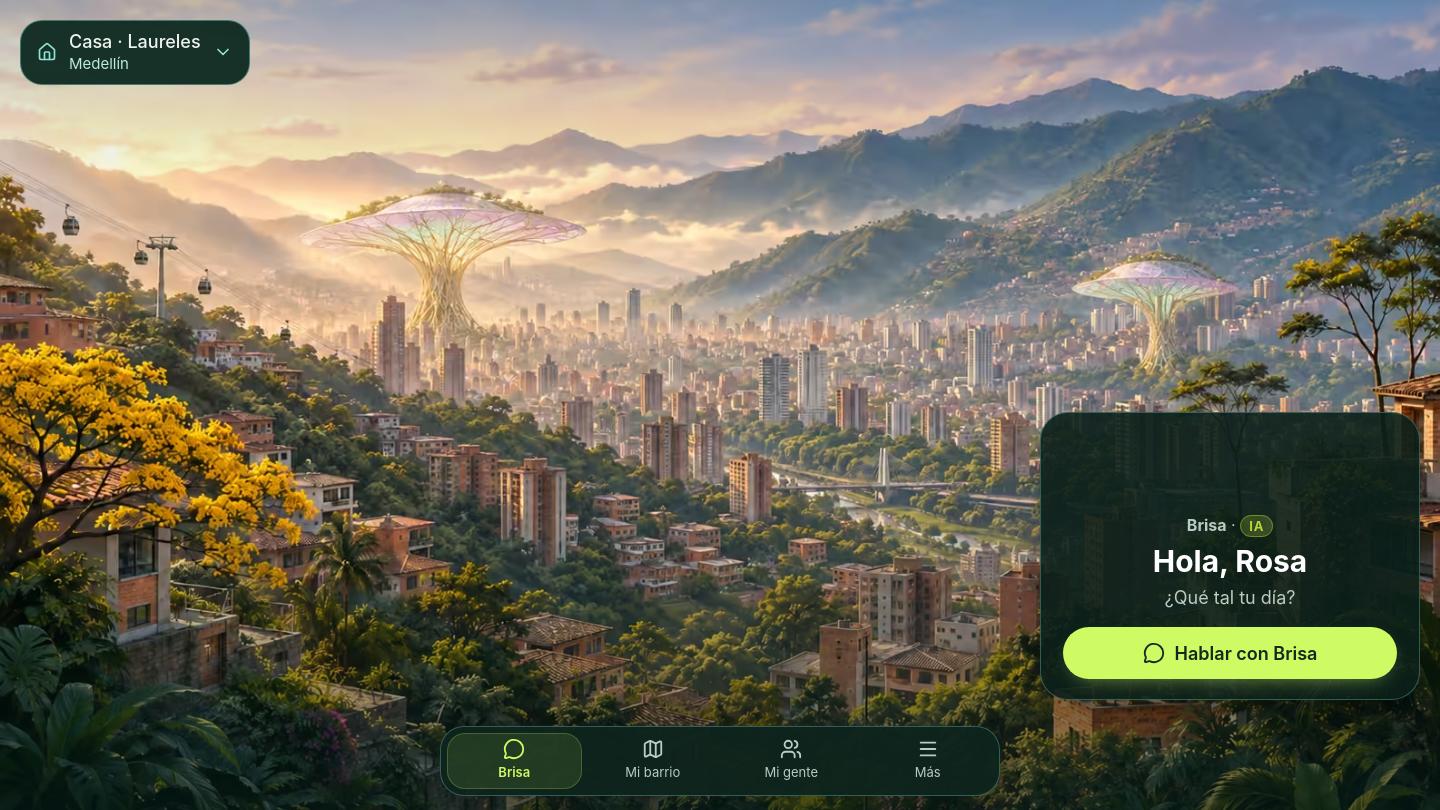
Scenario: Inicio con Brisa › arma un plan conversando y lo publica
The image size is (1440, 810).
Click the button "Hablar con Brisa" at (1230, 653), box top-left (1063, 627), bottom-right (1397, 679)
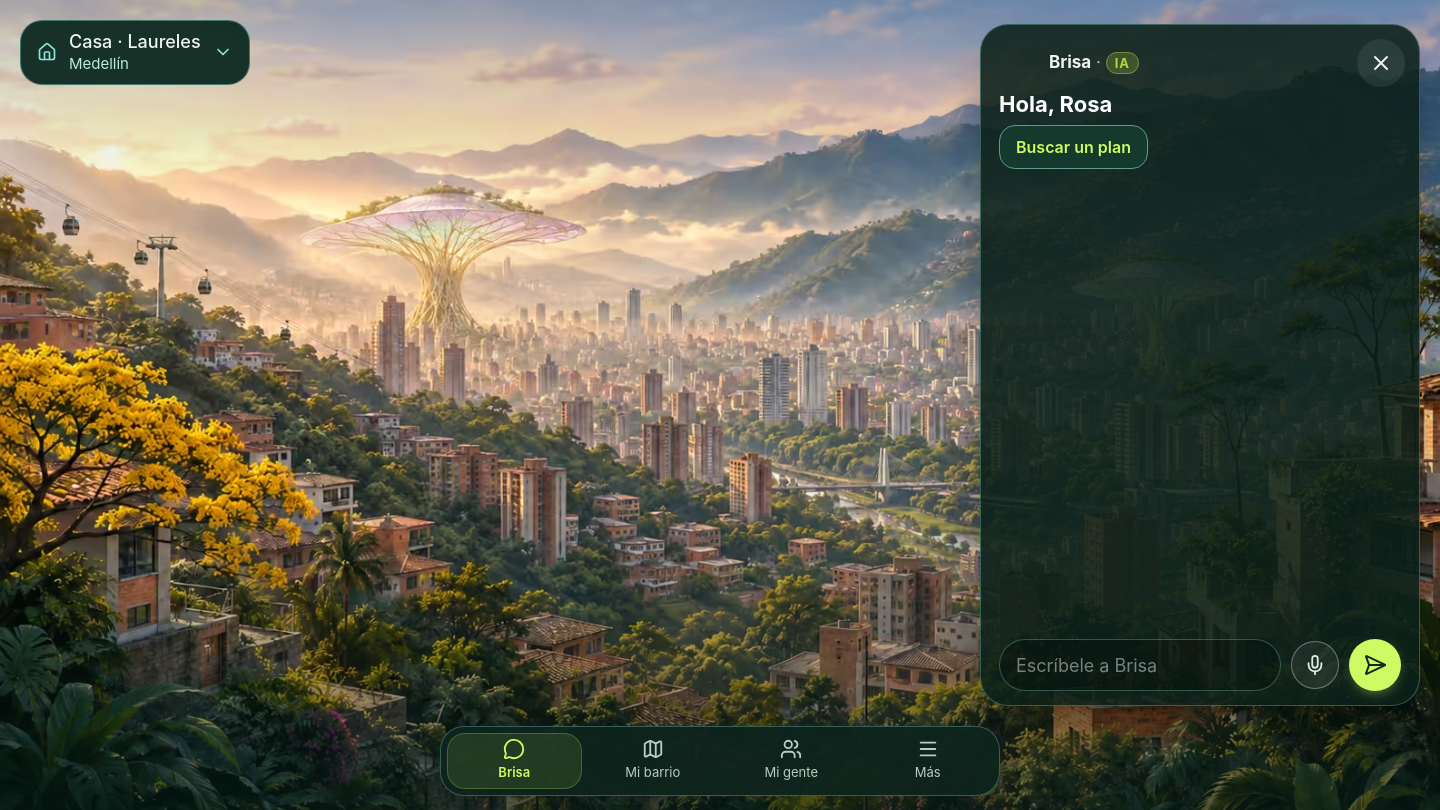
Type "Quiero caminar temprano" into the field labelled "Escríbele a Brisa" at (1140, 665), box top-left (999, 639), bottom-right (1281, 691)
Click the button named "Enviar" at (1375, 665), box top-left (1349, 639), bottom-right (1401, 691)
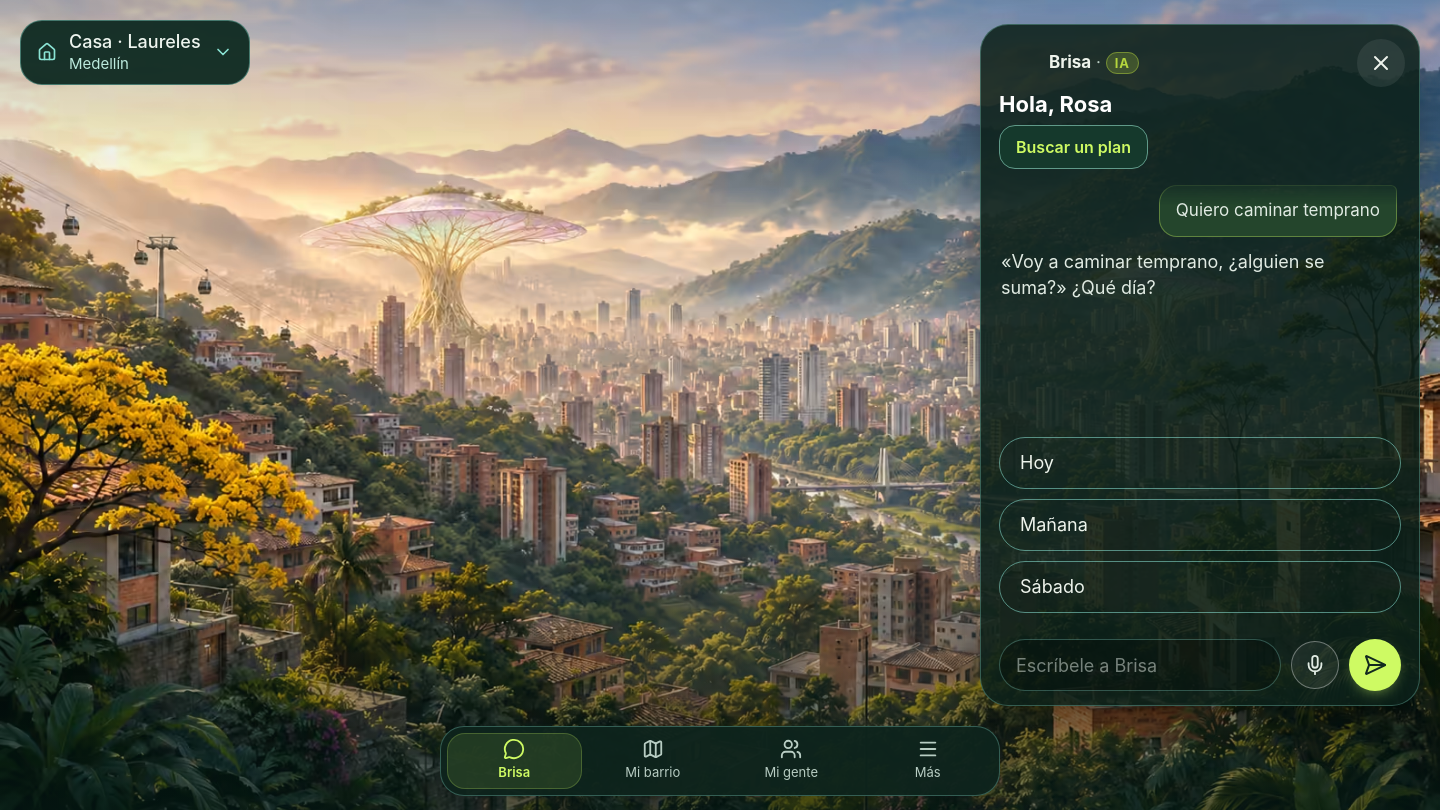
Click the button "Sábado" at (1052, 587), box top-left (999, 561), bottom-right (1401, 613)
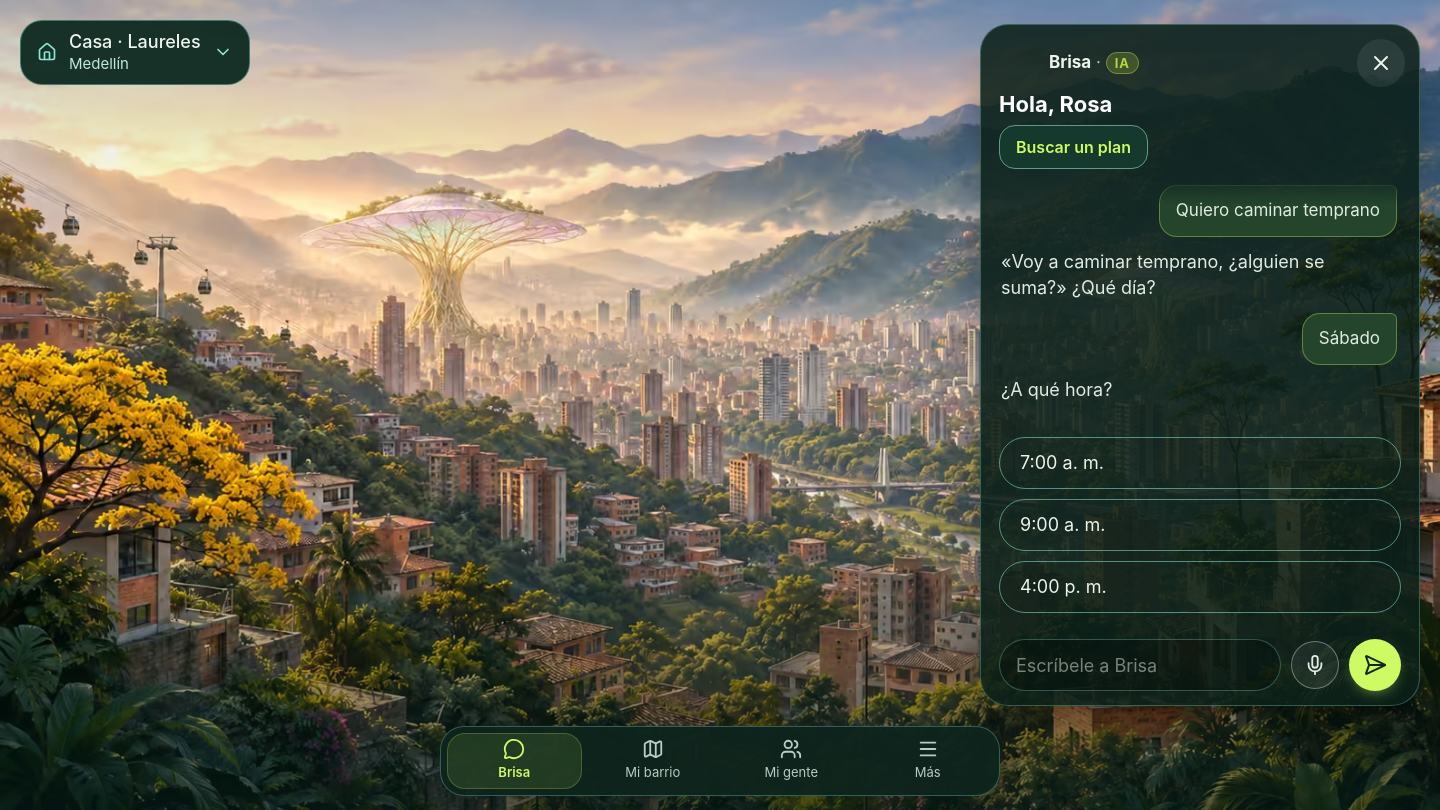
Click the button "7:00 a. m." at (1062, 463), box top-left (999, 437), bottom-right (1401, 489)
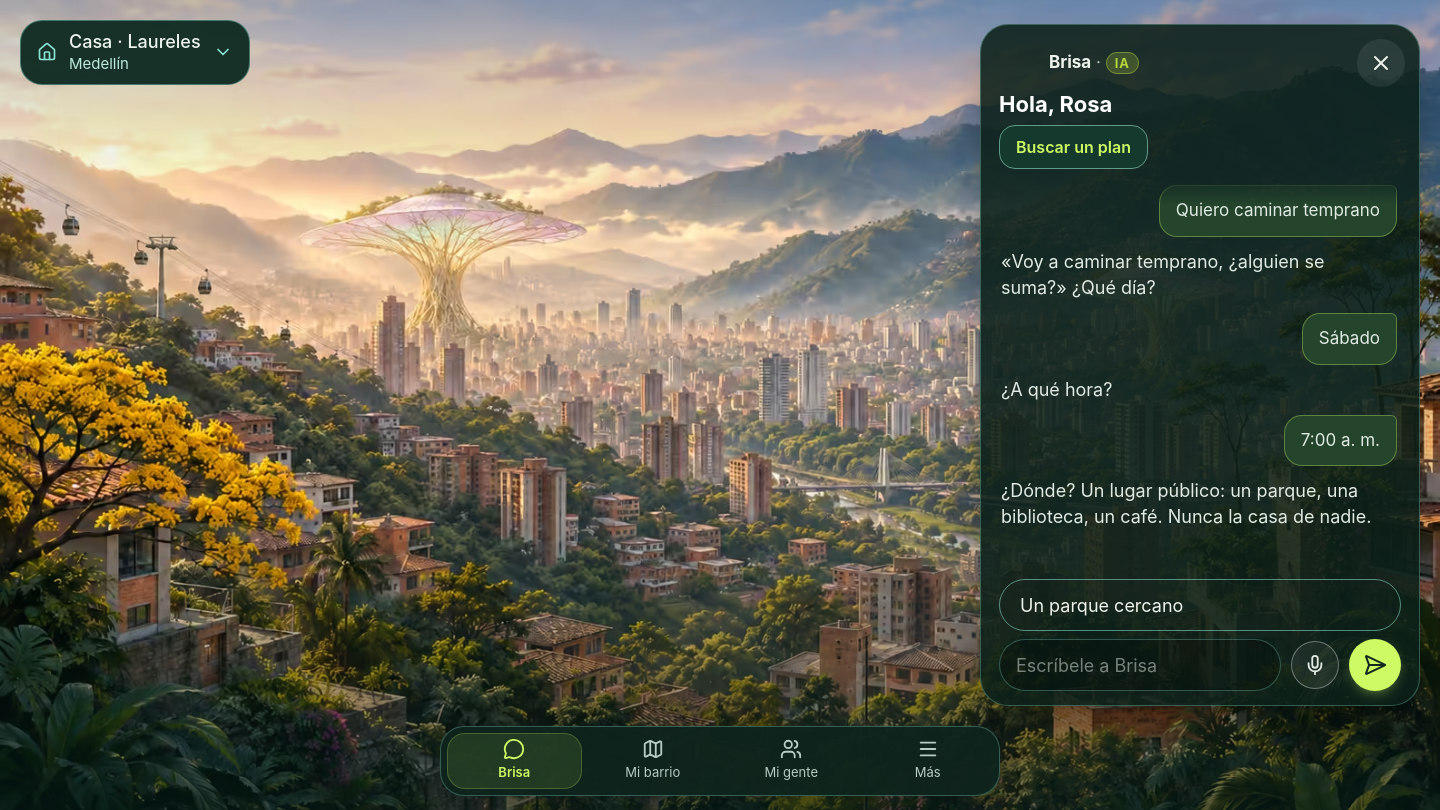
Click the button "Un parque cercano" at (1102, 605), box top-left (999, 579), bottom-right (1401, 631)
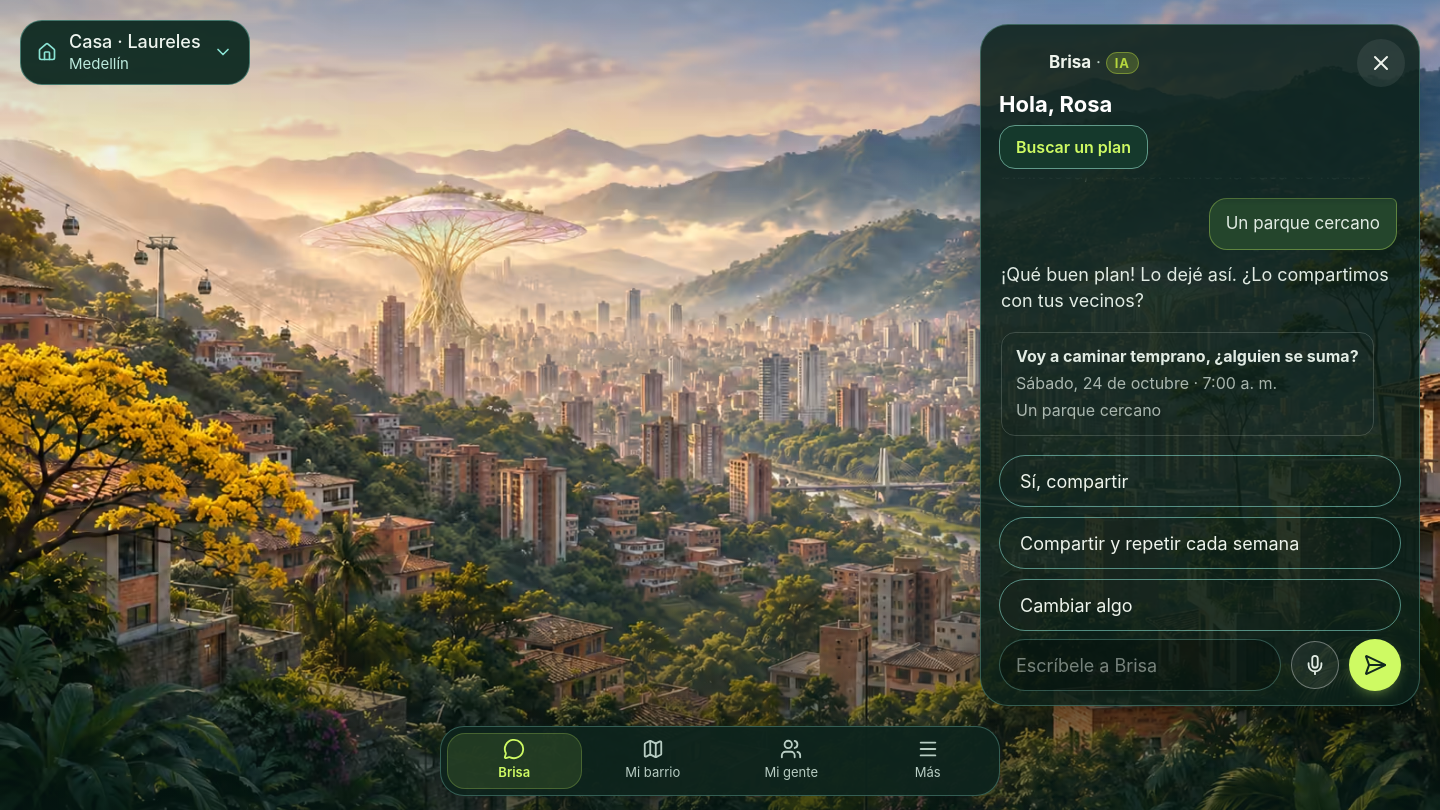
Click the button "Sí, compartir" at (1074, 481), box top-left (999, 455), bottom-right (1401, 507)
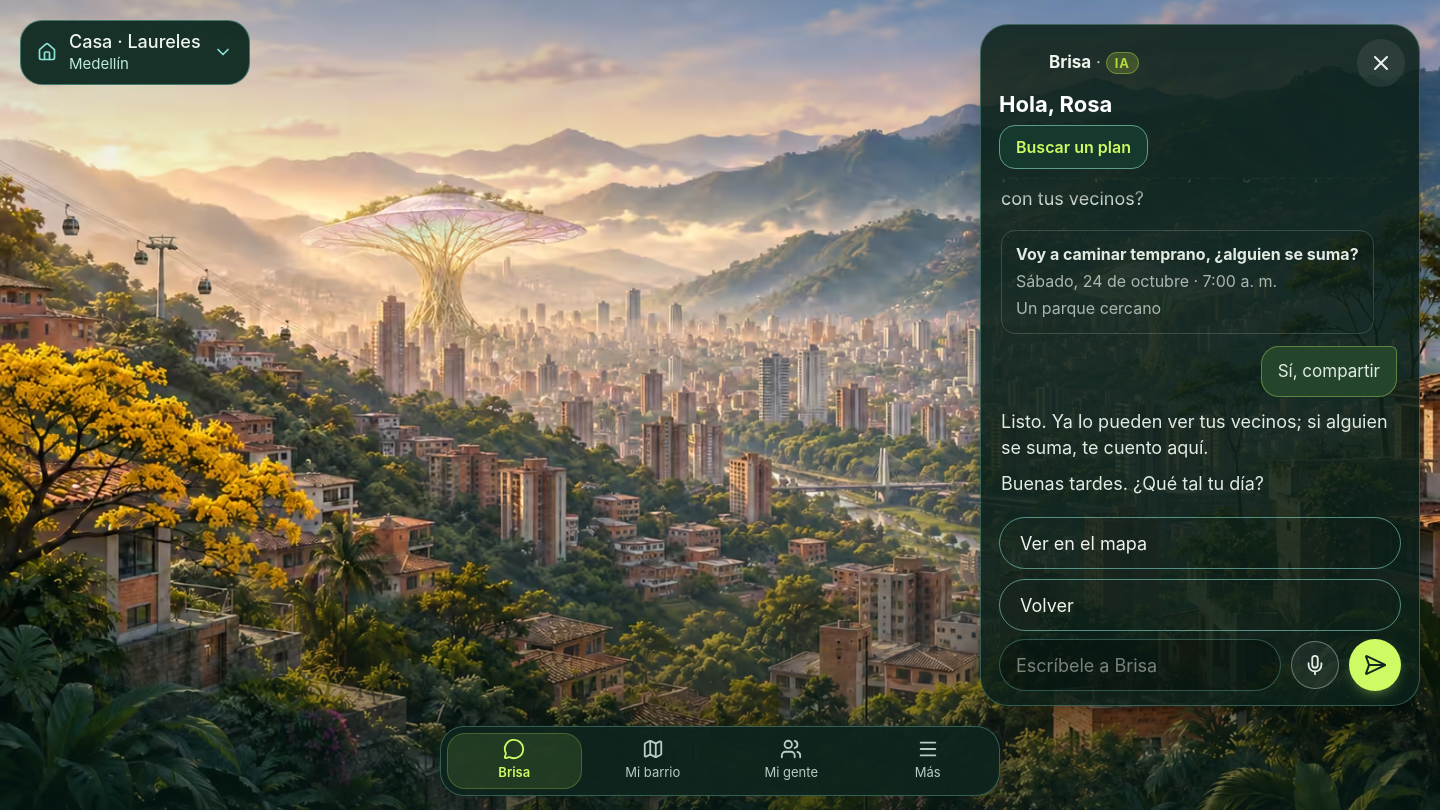
Check: the text "Ya lo pueden ver tus vecinos" is shown, box top-left (1001, 411), bottom-right (1388, 458)
